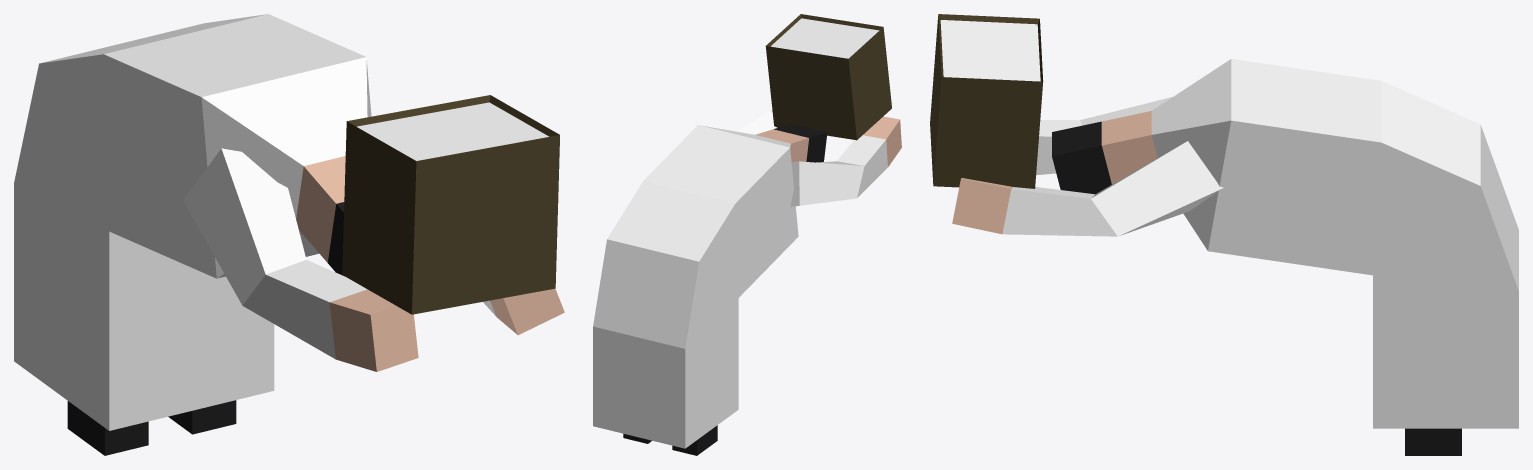
File: Tax.fbx
3 renders of one model, left to right at view 1: azimuth 30°, elevation 25°; view 2: azimuth 150°, elevation 25°; view 3: azimuth 270°, elevation 25°, orthographic. The views are drawn at different scales.
Visible parts, largest first — view 1: Empl_03.001; view 2: Empl_03.001; view 3: Empl_03.001.
Part boxes in pixels (x1,y1,x2,y2): Empl_03.001: (14, 14, 564, 455); Empl_03.001: (593, 14, 901, 455); Empl_03.001: (930, 14, 1518, 455).
Bounding box in the file's own units: 0.8335 × 1.65 × 2.23.
